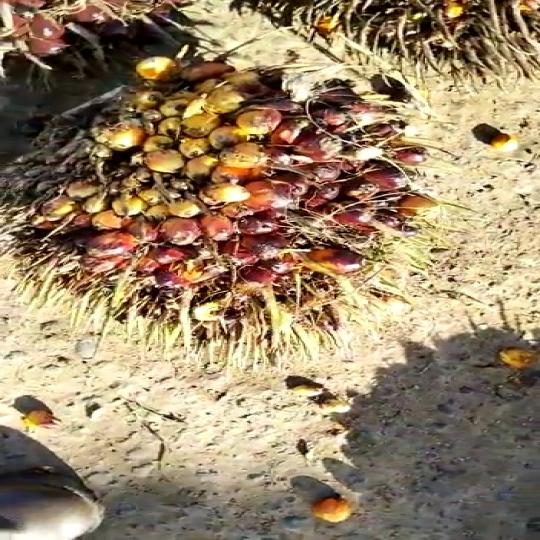masak: (0, 49, 459, 357)
